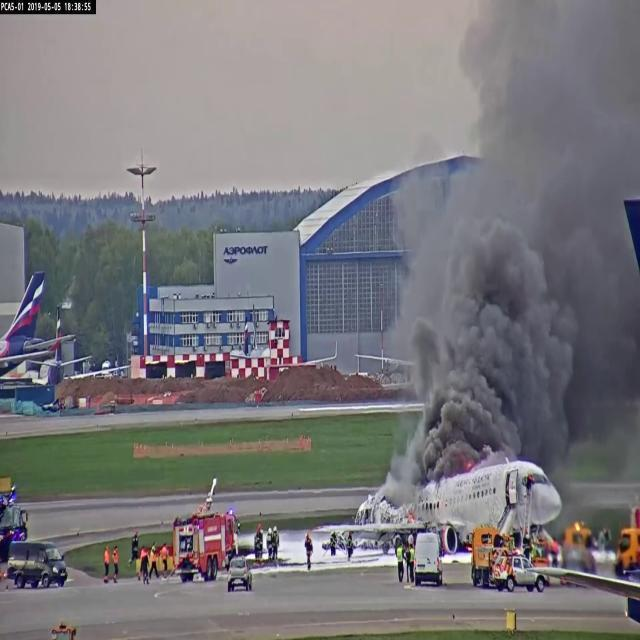Smoke: (420, 206, 582, 476)
